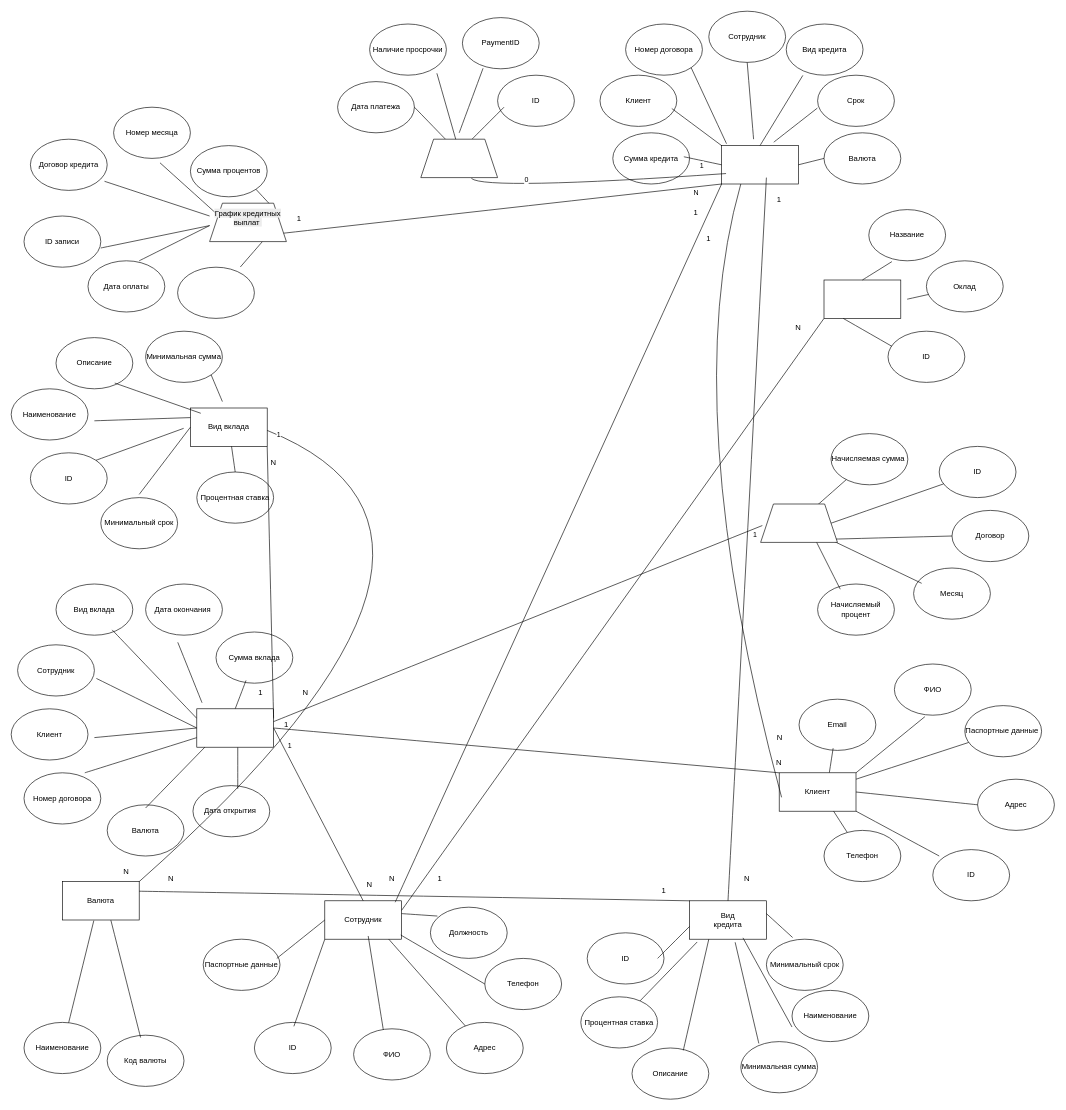
This 1066x1110 diagram has some shape labels left out. Here are the shapes that lost their labels. From the top down, the box of each, then its label:
(420, 139, 498, 178): Факт выплат по кредиту
(721, 145, 798, 184): Договор по кредиту
(177, 267, 254, 318): Сумма тела кредита
(823, 279, 901, 318): Должность сотрудника
(760, 503, 837, 542): Ежемесячные проценты по вкладу
(196, 708, 274, 747): Договор по вкладу
